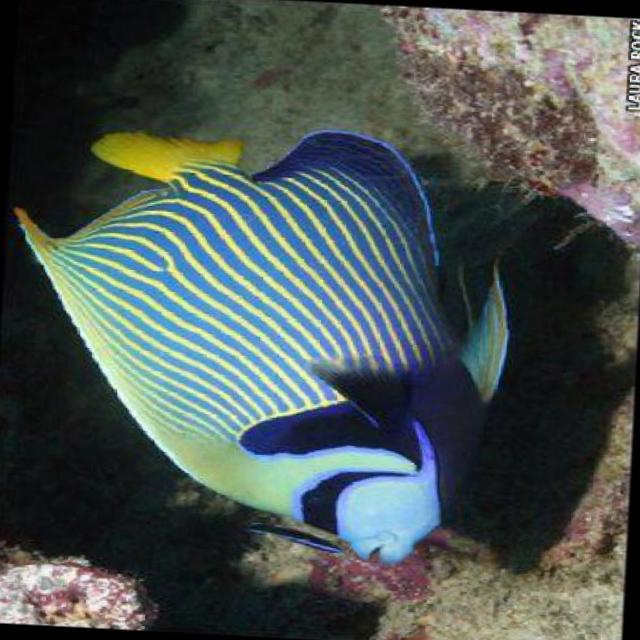AngelFish: (1, 111, 526, 568)
